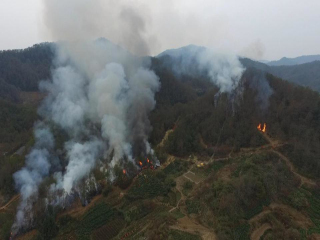smoke: (23, 8, 162, 209), (173, 40, 253, 103)
